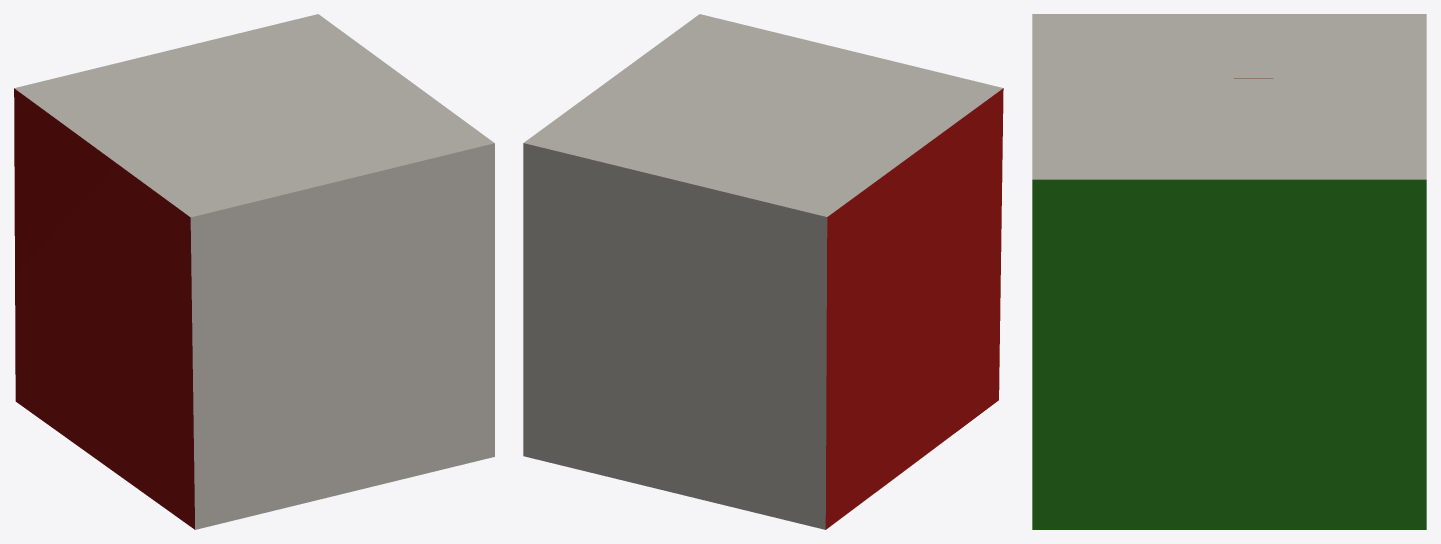
Rendered from cbox-torus.obj.
The picture shows the model from 3 angles, left to right: view 1: azimuth 30°, elevation 25°; view 2: azimuth 150°, elevation 25°; view 3: azimuth 270°, elevation 25°; orthographic projection. The views are drawn at different scales.
Visible parts, largest first — view 1: CornellBox_Original.003, CornellBox_Original.005, CornellBox_Original, CornellBox_Original.008; view 2: CornellBox_Original.002, CornellBox_Original.005, CornellBox_Original, CornellBox_Original.008; view 3: CornellBox_Original.004, CornellBox_Original, CornellBox_Original.008.
Part boxes in pixels (x1,y1,x2,y2): CornellBox_Original.003: [190, 143, 494, 529]; CornellBox_Original.005: [14, 88, 194, 529]; CornellBox_Original: [14, 14, 494, 217]; CornellBox_Original.008: [202, 93, 306, 137]; CornellBox_Original.002: [523, 143, 827, 529]; CornellBox_Original.005: [825, 88, 1003, 529]; CornellBox_Original: [524, 14, 1002, 216]; CornellBox_Original.008: [711, 93, 815, 137]; CornellBox_Original.004: [1032, 179, 1426, 529]; CornellBox_Original: [1032, 14, 1426, 179]; CornellBox_Original.008: [1185, 78, 1273, 114].
Size of the model in its own units: 2.02 by 1.99 by 2.03.
